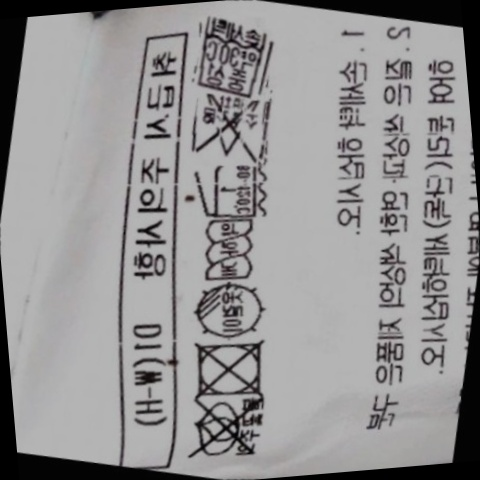DN_tumble_dry: (179, 323, 283, 413)
hand_wash: (183, 10, 283, 105)
iron_low: (187, 151, 273, 231)
line_dry_in_shade: (181, 270, 277, 350)
wring: (192, 209, 268, 292)
